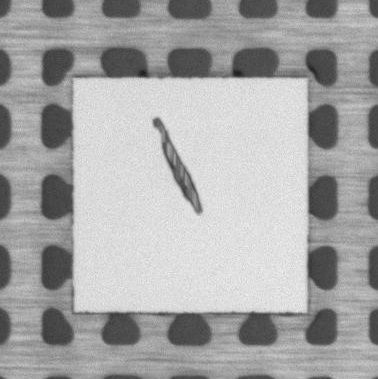DIE_INK: (149, 115, 211, 225)
